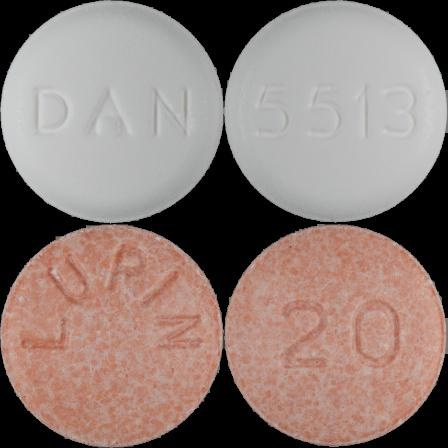75921-513: (0, 0, 224, 224)
